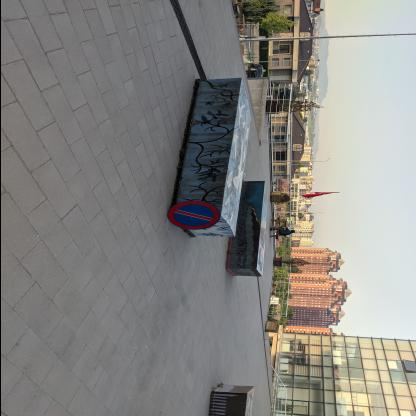No Waiting: (167, 202, 221, 232)
